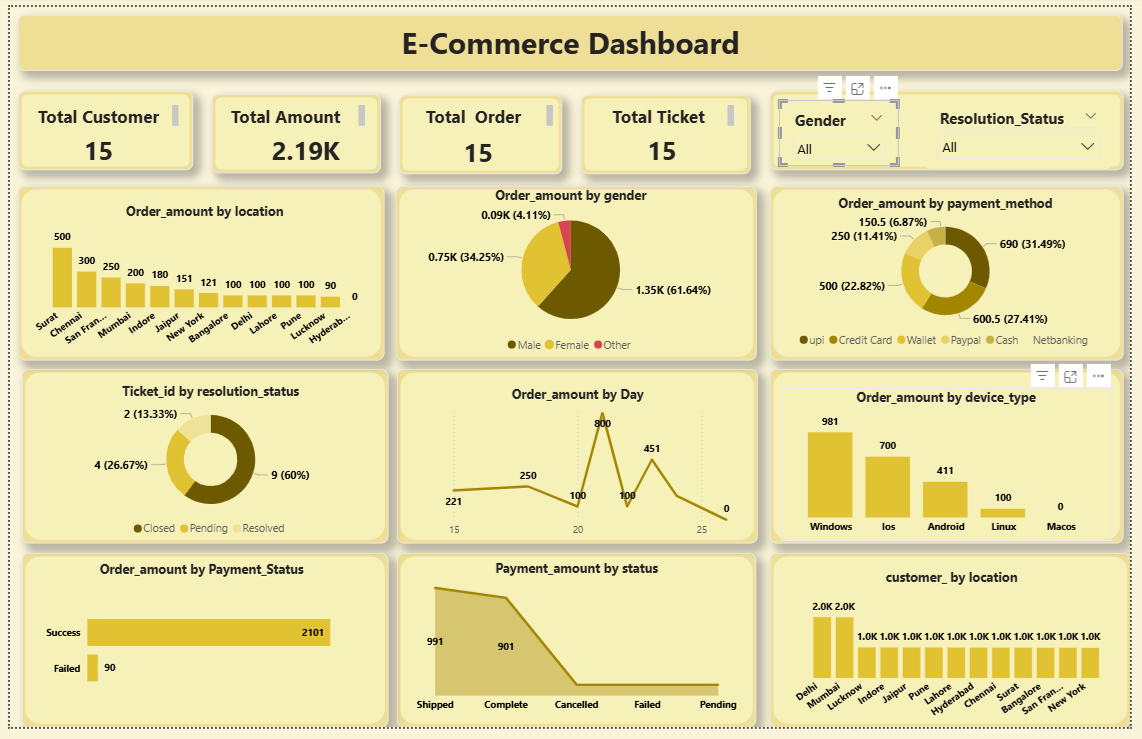

This screenshot's page, from the dashboard's own definition file:
{"tool":"powerbi","page":{"name":"Page 1","canvas":[1400,900],"ordinal":0},"visuals":[{"type":"textbox","box":[10.1,10.1,1381.4,69.6],"z":0},{"type":"shape","box":[10.1,223.3,457.9,217.7],"z":1000},{"type":"shape","box":[10.1,105.5,218.8,98.8],"z":2000},{"type":"shape","box":[949.4,105.5,442.1,98.8],"z":3000},{"type":"shape","box":[252.2,108.9,211,98.8],"z":4000},{"type":"shape","box":[486.5,110,204.2,98.8],"z":5000},{"type":"shape","box":[714,110,212.1,98.8],"z":6000},{"type":"shape","box":[483.1,223.3,451.1,217.7],"z":7000},{"type":"shape","box":[949.4,223.3,442.1,217.7],"z":8000},{"type":"shape","box":[14.6,452.8,457.9,217.7],"z":9000},{"type":"shape","box":[483.7,452.8,451.1,217.7],"z":10000},{"type":"shape","box":[949.4,452.8,442.1,217.7],"z":11000},{"type":"card","fields":{"Values":["CountNonNull(gold_customer360.customer_id)"]},"box":[56.1,154.9,108.9,49.4],"z":12000},{"type":"textbox","box":[13.5,117.8,202,37],"z":13000},{"type":"textbox","box":[249.1,117.8,199.8,37],"z":14000},{"type":"textbox","box":[483.7,117.8,199.8,37],"z":15000},{"type":"textbox","box":[720.4,117.8,189.7,37],"z":16000},{"type":"card","fields":{"Values":["Sum(gold_customer360.Order_amount)"]},"box":[305.2,154.9,129.1,49.4],"z":17000},{"type":"card","fields":{"Values":["CountNonNull(gold_customer360.order_id)"]},"box":[526.3,154.9,117.8,53.9],"z":18000},{"type":"card","fields":{"Values":["CountNonNull(gold_customer360.ticket_id)"]},"box":[765.3,151.5,99.9,56.1],"z":19000},{"type":"columnChart","title":"Order_amount by location","fields":{"Category":["gold_customer360.location"],"Y":["Sum(gold_customer360.Order_amount)"]},"box":[25.8,243.5,434.3,190.8],"z":20000},{"type":"pieChart","fields":{"Category":["gold_customer360.gender"],"Y":["Sum(gold_customer360.Order_amount)"]},"box":[491.5,223.3,419.7,217.7],"z":21000},{"type":"donutChart","fields":{"Y":["Sum(gold_customer360.Order_amount)"],"Category":["gold_customer360.payment_method"]},"box":[961.7,233.4,416.3,200.9],"z":22000},{"type":"donutChart","fields":{"Category":["gold_customer360.resolution_status"],"Y":["CountNonNull(gold_customer360.ticket_id)"]},"box":[33.7,469.1,434.3,202],"z":23000},{"type":"lineChart","title":"Order_amount by Day","fields":{"Category":["gold_customer360.order_date.Variation.Date Hierarchy.Day"],"Y":["Sum(gold_customer360.Order_amount)"]},"box":[508.4,472.4,401.7,198.6],"z":24000},{"type":"clusteredColumnChart","title":"Order_amount by device_type","fields":{"Category":["gold_customer360.device_type"],"Y":["Sum(gold_customer360.Order_amount)"]},"box":[964,475.8,413,191.9],"z":25000},{"type":"shape","box":[14.6,682.3,457.9,217.7],"z":26000},{"type":"shape","box":[483.7,682.3,448.9,217.7],"z":27000},{"type":"shape","box":[949.4,682.3,451.1,217.7],"z":28000},{"type":"stackedAreaChart","title":"Payment_amount by status","fields":{"Category":["gold_customer360.status"],"Y":["Sum(gold_customer360.Order_amount)"]},"box":[491.5,690.1,434.3,200.9],"z":29000},{"type":"barChart","title":"Order_amount by Payment_Status","fields":{"Y":["Sum(gold_customer360.Order_amount)"],"Category":["gold_customer360.payment_status"]},"box":[38.2,691.3,401.7,198.6],"z":30000},{"type":"columnChart","fields":{"Y":["Sum(gold_customer360.customer_id)"],"Category":["gold_customer360.location"]},"box":[976.3,701.4,401.7,198.6],"z":31000},{"type":"slicer","fields":{"Values":["gold_customer360.gender"]},"box":[961.7,116.7,149.3,81.9],"z":32000},{"type":"slicer","fields":{"Values":["gold_customer360.resolution_status"]},"box":[1142.4,113.3,235.7,88.7],"z":32001}]}

Visuals, with their boxes in screenshot pixels (x1, y1, x2, y2), scaled from the page's 1400x900 canvas onto the 1142x739 screenshot:
textbox: Rect(8, 8, 1135, 65)
shape: Rect(8, 183, 382, 362)
shape: Rect(8, 87, 187, 168)
shape: Rect(774, 87, 1135, 168)
shape: Rect(206, 89, 378, 171)
shape: Rect(397, 90, 563, 171)
shape: Rect(582, 90, 755, 171)
shape: Rect(394, 183, 762, 362)
shape: Rect(774, 183, 1135, 362)
shape: Rect(12, 372, 385, 551)
shape: Rect(395, 372, 763, 551)
shape: Rect(774, 372, 1135, 551)
card - CountNonNull(gold_customer360.customer_id): Rect(46, 127, 135, 168)
textbox: Rect(11, 97, 176, 127)
textbox: Rect(203, 97, 366, 127)
textbox: Rect(395, 97, 558, 127)
textbox: Rect(588, 97, 742, 127)
card - Sum(gold_customer360.Order_amount): Rect(249, 127, 354, 168)
card - CountNonNull(gold_customer360.order_id): Rect(429, 127, 525, 171)
card - CountNonNull(gold_customer360.ticket_id): Rect(624, 124, 706, 170)
"Order_amount by location" columnChart: Rect(21, 200, 375, 357)
pieChart - gold_customer360.gender x Sum(gold_customer360.Order_amount): Rect(401, 183, 743, 362)
donutChart - Sum(gold_customer360.Order_amount) x gold_customer360.payment_method: Rect(784, 192, 1124, 357)
donutChart - gold_customer360.resolution_status x CountNonNull(gold_customer360.ticket_id): Rect(27, 385, 382, 551)
"Order_amount by Day" lineChart: Rect(415, 388, 742, 551)
"Order_amount by device_type" clusteredColumnChart: Rect(786, 391, 1123, 548)
shape: Rect(12, 560, 385, 738)
shape: Rect(395, 560, 761, 738)
shape: Rect(774, 560, 1141, 738)
"Payment_amount by status" stackedAreaChart: Rect(401, 567, 755, 732)
"Order_amount by Payment_Status" barChart: Rect(31, 568, 359, 731)
columnChart - Sum(gold_customer360.customer_id) x gold_customer360.location: Rect(796, 576, 1124, 738)
slicer - gold_customer360.gender: Rect(784, 96, 906, 163)
slicer - gold_customer360.resolution_status: Rect(932, 93, 1124, 166)
